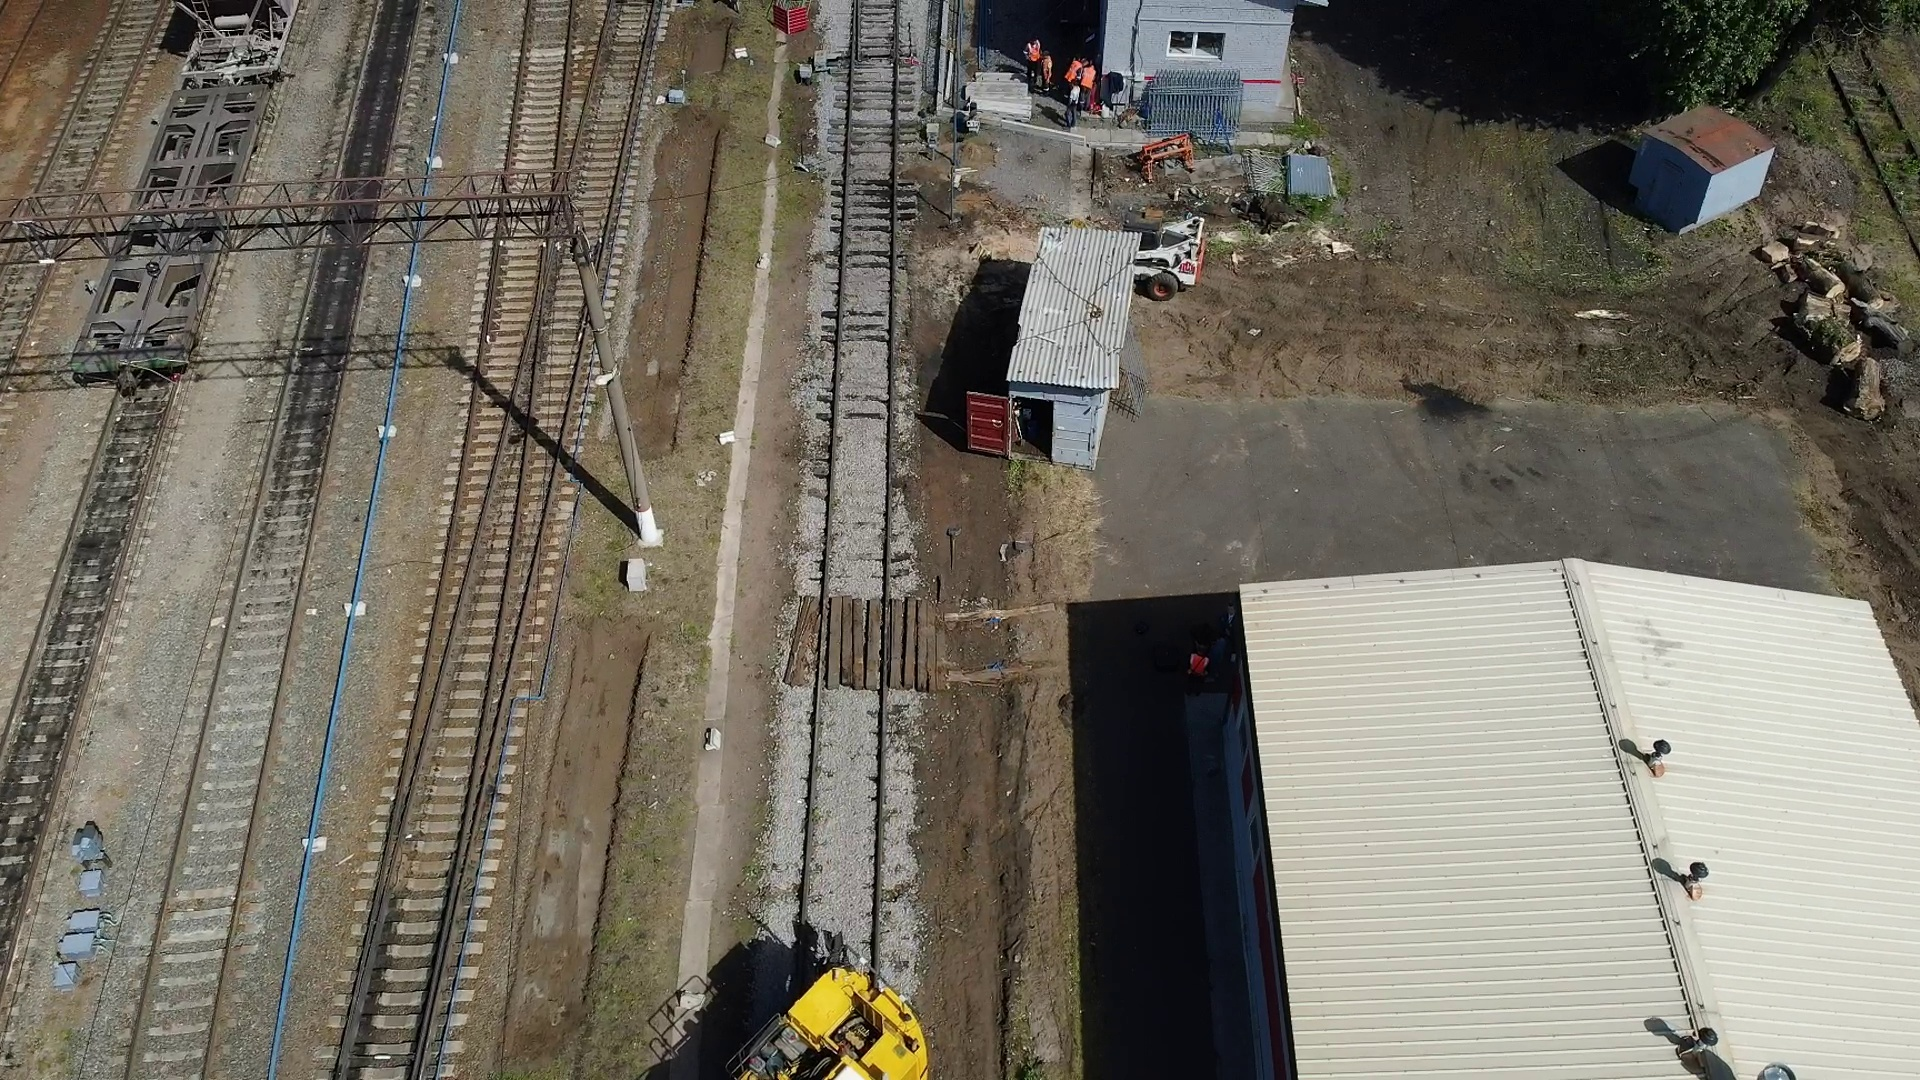kjtv: (723, 963, 932, 1080)
